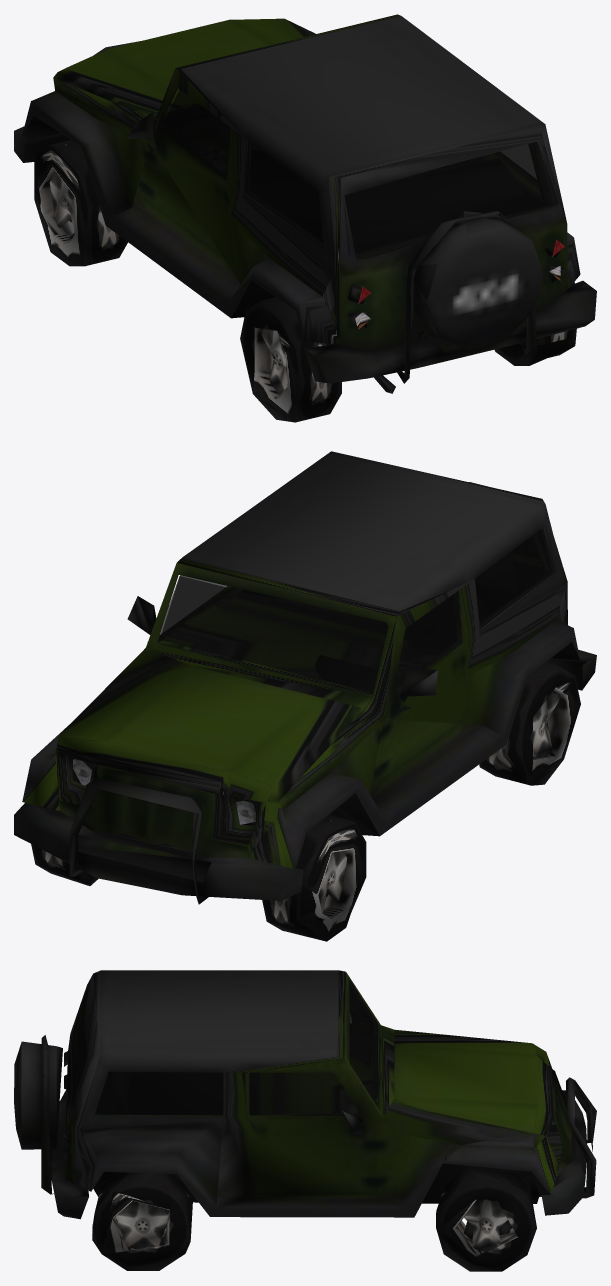
File: c_offroad_lo.glb
3 views of the same model, one above another, from view 1: azimuth 30°, elevation 25°; view 2: azimuth 150°, elevation 25°; view 3: azimuth 270°, elevation 25° (orthographic). The views are drawn at different scales.
Parts seen in each view (by area): view 1: body|Body_3, body|glass, body|Wheel_2; view 2: body|Body_3, body|glass, body|Wheel_2, body|Optics_3; view 3: body|Body_3, body|Wheel_2, body|glass.
Part boxes in pixels (<box>): body|Body_3: <box>14,14,596,393</box>; body|glass: <box>160,89,557,260</box>; body|Wheel_2: <box>34,139,576,422</box>; body|Body_3: <box>14,451,596,904</box>; body|glass: <box>158,528,554,693</box>; body|Wheel_2: <box>31,662,580,941</box>; body|Optics_3: <box>73,759,255,824</box>; body|Body_3: <box>14,970,596,1219</box>; body|Wheel_2: <box>92,1166,536,1271</box>; body|glass: <box>72,982,377,1115</box>.
Size of the model in its own units: 1.96 by 1.54 by 3.93.
4 materials, 3 textured.
